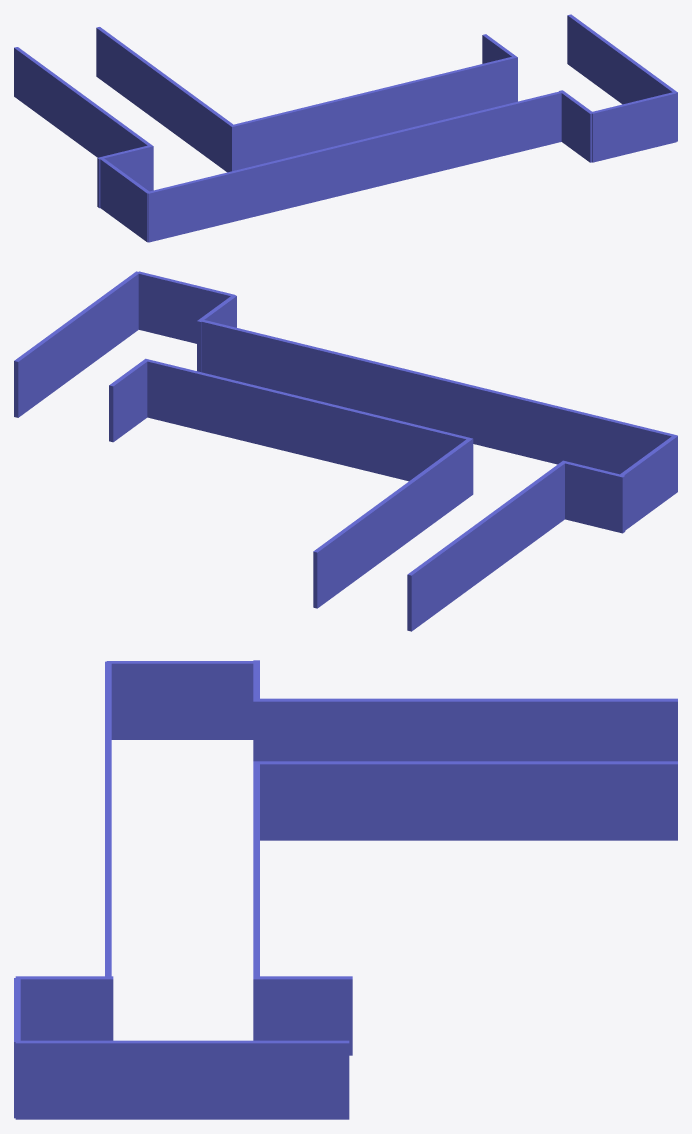
File: qr_maze.dae
3 renders of one model, top to bottom at view 1: azimuth 30°, elevation 25°; view 2: azimuth 150°, elevation 25°; view 3: azimuth 270°, elevation 25°, orthographic. The views are drawn at different scales.
Parts seen in each view (by area): view 1: path, path.001, connector.001, connector, blocking, cube_piece_left.001, blocking.001, cube_piece_left; view 2: path, path.001, connector.001, connector, cube_piece_left.001, blocking, cube_piece_left, blocking.001; view 3: path.001, connector, cube_piece_left, blocking.001, path, cube_piece_left.001, connector.001.
Part boxes in pixels (bbox=[...]): path: bbox=[284, 56, 561, 197]; path.001: bbox=[14, 27, 232, 172]; connector.001: bbox=[147, 147, 333, 242]; connector: bbox=[567, 14, 677, 141]; blocking: bbox=[591, 92, 676, 162]; cube_piece_left.001: bbox=[97, 112, 286, 208]; blocking.001: bbox=[99, 157, 148, 242]; cube_piece_left: bbox=[482, 34, 591, 162]; path: bbox=[144, 319, 464, 481]; path.001: bbox=[313, 439, 564, 631]; connector.001: bbox=[463, 383, 677, 474]; connector: bbox=[14, 271, 138, 417]; cube_piece_left.001: bbox=[408, 423, 625, 533]; blocking: bbox=[137, 271, 235, 343]; cube_piece_left: bbox=[109, 295, 236, 442]; blocking.001: bbox=[619, 435, 677, 530]; path.001: bbox=[260, 698, 677, 840]; connector: bbox=[15, 1040, 349, 1119]; cube_piece_left: bbox=[15, 976, 352, 1055]; blocking.001: bbox=[106, 661, 258, 739]; path: bbox=[105, 802, 259, 1040]; cube_piece_left.001: bbox=[253, 660, 259, 802]; connector.001: bbox=[105, 661, 111, 802].
Size of the model in its own units: 5.38 by 3.94 by 0.5.
